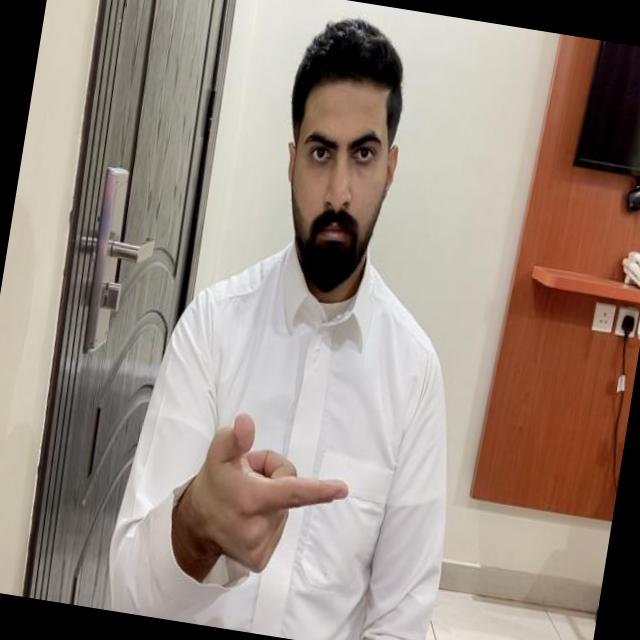dispensing: (172, 404, 358, 586)
